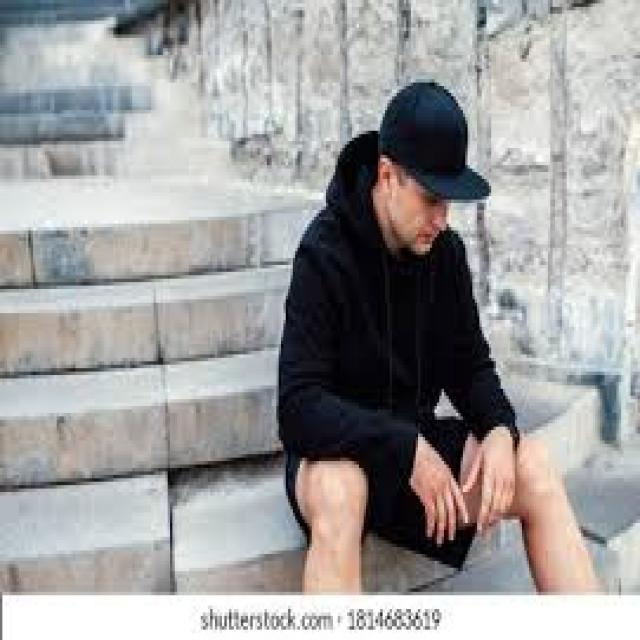3_gorra: (374, 77, 496, 204)
